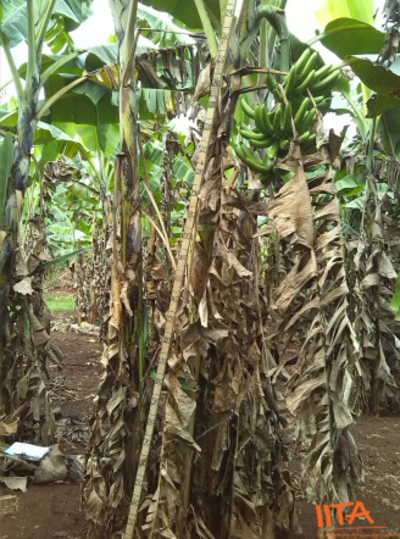bananaHand: (229, 45, 347, 174)
